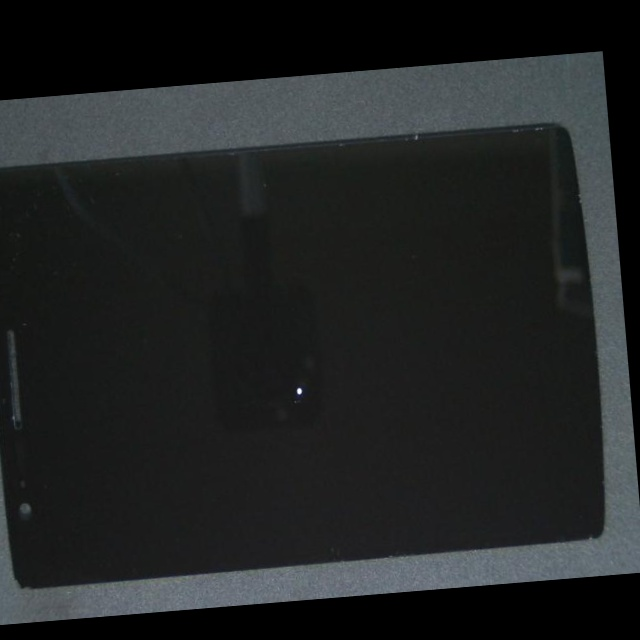stain: (118, 175, 456, 543)
